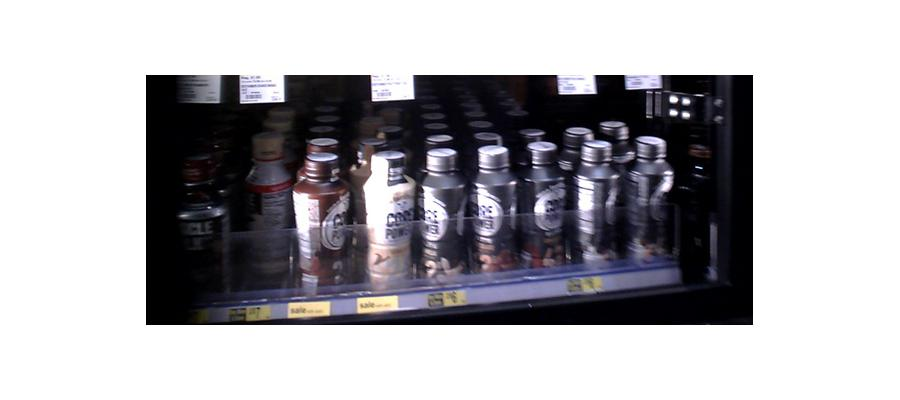bottle: (294, 146, 353, 292), (243, 132, 294, 293), (362, 147, 415, 285), (626, 131, 673, 267), (419, 149, 465, 282), (573, 138, 620, 267), (521, 141, 566, 271), (471, 145, 515, 274)
